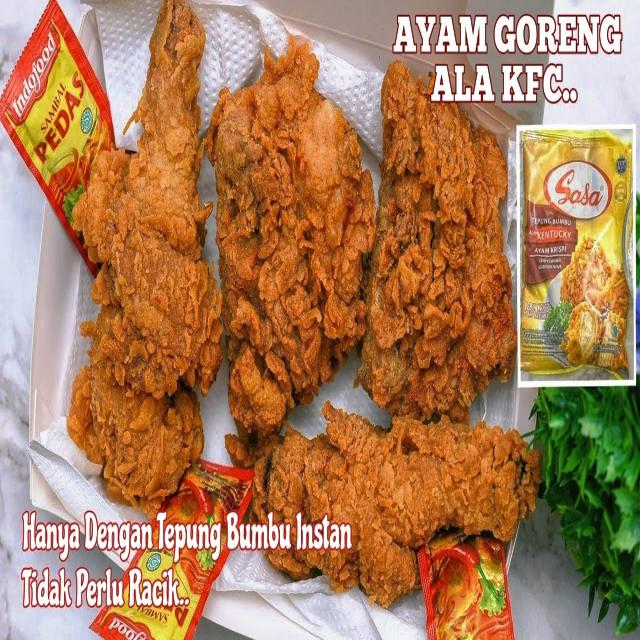fried_chicken: (70, 0, 206, 500), (212, 42, 378, 439), (363, 61, 519, 408), (256, 411, 524, 604)
